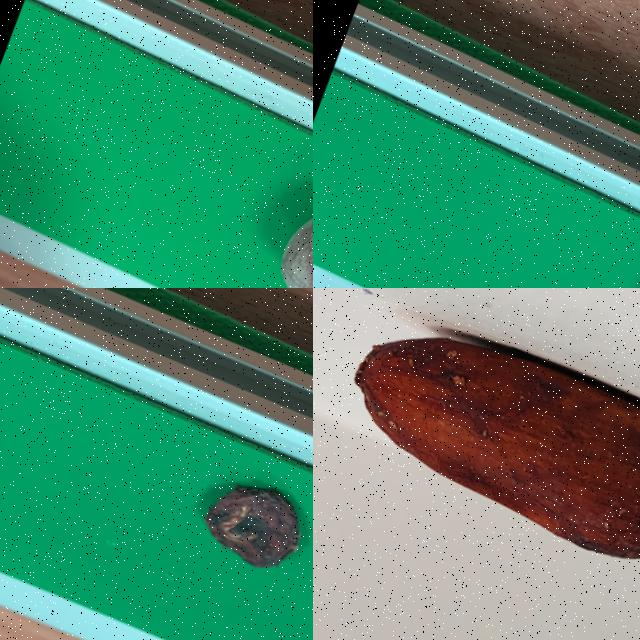Fine_cocoabeans: (313, 288, 639, 639), (208, 128, 312, 287)
Flat_cocoabeans: (107, 405, 312, 633)
